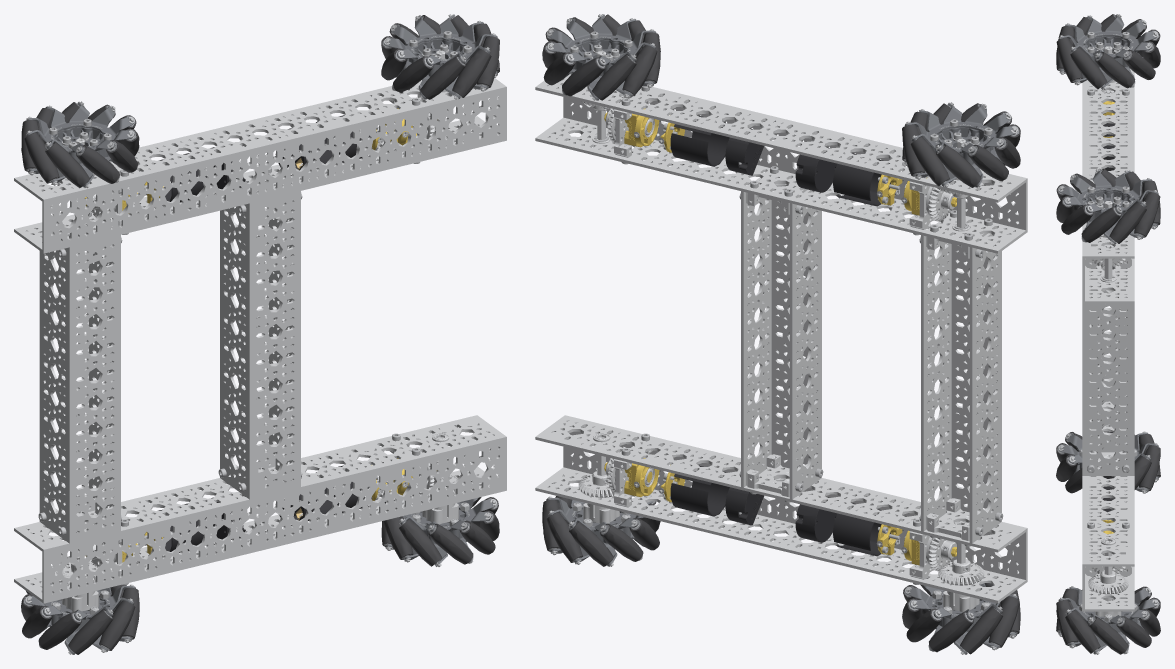
File: robot.glb
3 views of the same model, side by side, from view 1: azimuth 30°, elevation 25°; view 2: azimuth 150°, elevation 25°; view 3: azimuth 270°, elevation 25° (orthographic). The views are drawn at different scales.
Visible parts, largest first — view 1: chassis, wheel_FL, wheel_RL, wheel_RR, wheel_FR, roller_FR_7, roller_RL_3, roller_FL_9, roller_RR_3, roller_FL_8, roller_RR_2, roller_RL_2 (+6 smaller); view 2: chassis, wheel_FL, wheel_RL, wheel_RR, wheel_FR, roller_FR_0, roller_FL_5, roller_RR_6, roller_RL_0, roller_RL_9, roller_FR_1, roller_FL_6 (+6 smaller); view 3: chassis, wheel_FL, wheel_RL, wheel_FR, wheel_RR, roller_RL_6, roller_FL_2, roller_FR_4, roller_FR_3, roller_RL_7, roller_FL_1, roller_RL_5 (+18 smaller).
Boxes of the visible parts, bbox=[...] form: chassis: bbox=[14, 44, 506, 611]; wheel_FL: bbox=[383, 14, 497, 99]; wheel_RL: bbox=[27, 102, 134, 187]; wheel_RR: bbox=[25, 583, 135, 654]; wheel_FR: bbox=[385, 497, 495, 566]; roller_FR_7: bbox=[399, 518, 441, 566]; roller_RL_3: bbox=[45, 142, 89, 188]; roller_FL_9: bbox=[452, 47, 491, 99]; roller_RR_3: bbox=[68, 609, 113, 654]; roller_FL_8: bbox=[420, 56, 465, 99]; roller_RR_2: bbox=[99, 598, 135, 652]; roller_RL_2: bbox=[24, 130, 59, 185]; chassis: bbox=[535, 44, 1027, 612]; wheel_FL: bbox=[547, 14, 656, 100]; wheel_RL: bbox=[904, 103, 1015, 187]; wheel_RR: bbox=[904, 578, 1017, 654]; wheel_FR: bbox=[546, 495, 653, 566]; roller_FR_0: bbox=[569, 521, 613, 566]; roller_FL_5: bbox=[592, 54, 636, 100]; roller_RR_6: bbox=[960, 606, 1002, 654]; roller_RL_0: bbox=[936, 144, 981, 187]; roller_RL_9: bbox=[910, 135, 949, 187]; roller_FR_1: bbox=[546, 510, 582, 564]; roller_FL_6: bbox=[622, 43, 657, 97]; chassis: bbox=[1082, 42, 1134, 616]; wheel_FL: bbox=[1058, 169, 1158, 244]; wheel_RL: bbox=[1060, 14, 1156, 88]; wheel_FR: bbox=[1058, 587, 1157, 654]; wheel_RR: bbox=[1058, 432, 1158, 492]; roller_RL_6: bbox=[1070, 46, 1107, 89]; roller_FL_2: bbox=[1109, 201, 1146, 244]; roller_FR_4: bbox=[1065, 609, 1100, 654]; roller_FR_3: bbox=[1088, 616, 1128, 654]; roller_RL_7: bbox=[1095, 51, 1135, 89]; roller_FL_1: bbox=[1081, 206, 1121, 244]; roller_RL_5: bbox=[1056, 35, 1082, 85].
Size of the model in its own units: 0.432 by 0.4532 by 0.0962.
